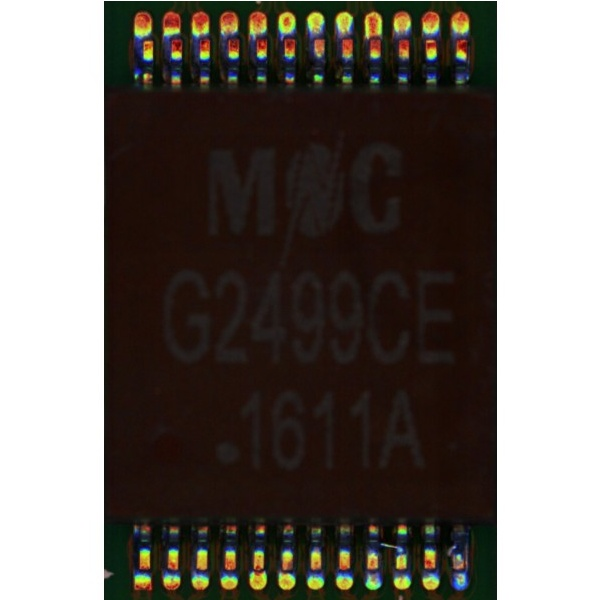Bad_podu: (252, 560, 263, 577), (368, 27, 380, 42)
